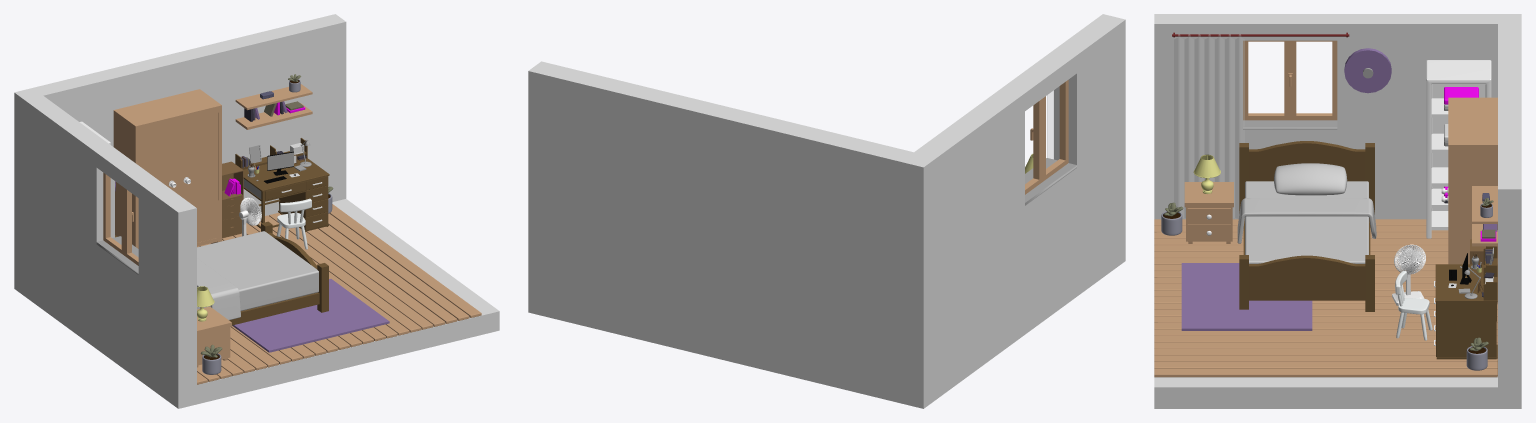
3 renders of one model, left to right at view 1: azimuth 30°, elevation 25°; view 2: azimuth 150°, elevation 25°; view 3: azimuth 270°, elevation 25°, orthographic. The views are drawn at different scales.
Visible parts, largest first — view 1: _polySurface229, _polySurface202, _polySurface185, _polySurface241, _pCube38, _pCube49, _polySurface242, _polySurface236, _pasted__zhuotai3, _polySurface191, _pCylinder36, _polySurface231 (+6 smaller); view 2: _polySurface229, _polySurface232, _polySurface231, _polySurface228; view 3: _polySurface229, _polySurface202, _polySurface175, _polySurface241, _polySurface185, _pCube38, _polySurface116, _polySurface195, _pasted__zhuotai4, _polySurface198, _polySurface242, _polySurface236 (+16 smaller).
Boxes of the visible parts, x1,y1,x2,y2 form: _polySurface229: (14,14,499,408); _polySurface202: (197,204,481,384); _polySurface185: (113,89,221,248); _polySurface241: (197,231,318,310); _pCube38: (232,279,389,352); _pCube49: (235,84,312,129); _polySurface242: (197,258,240,320); _polySurface236: (197,306,231,367); _pasted__zhuotai3: (243,158,329,191); _polySurface191: (229,292,319,325); _pCylinder36: (276,198,311,249); _polySurface231: (103,172,124,255); _polySurface229: (528,14,1125,408); _polySurface232: (1042,80,1068,181); _polySurface231: (1025,99,1042,194); _polySurface228: (1025,158,1076,205); _polySurface229: (1154,14,1521,408); _polySurface202: (1154,219,1497,377); _polySurface175: (1174,34,1244,218); _polySurface241: (1245,181,1368,263); _polySurface185: (1448,97,1497,304); _pCube38: (1181,263,1312,330); _polySurface116: (1426,60,1491,238); _polySurface195: (1249,255,1365,300); _pasted__zhuotai4: (1436,302,1496,359); _polySurface198: (1249,141,1365,181); _polySurface242: (1237,198,1376,243); _polySurface236: (1184,182,1233,243).
Bounding box in the file's own units: 271 × 158 × 240.
